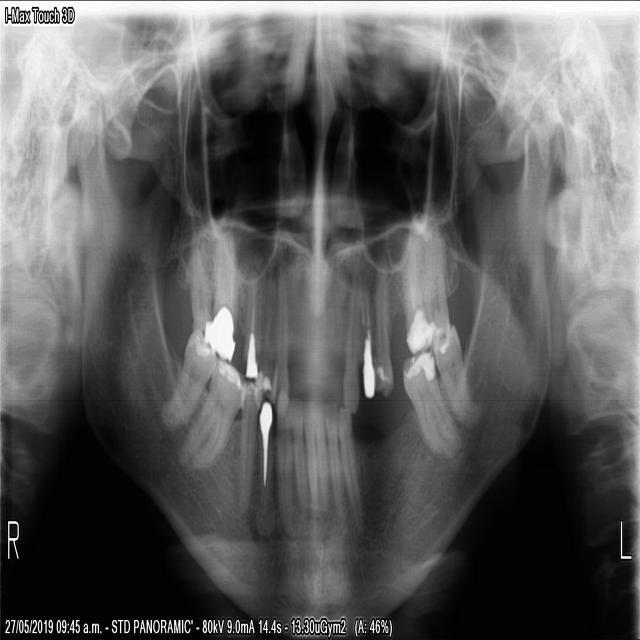LCD: (337, 403, 363, 531)
LID: (323, 393, 349, 520), (313, 395, 328, 519)
LMD: (400, 348, 466, 458), (431, 324, 488, 428)
LMU: (398, 209, 451, 354)
LPMU: (371, 268, 394, 397), (360, 286, 374, 399)
RCD: (276, 386, 291, 532)
RID: (288, 396, 309, 512), (302, 397, 319, 513)
RMD: (172, 356, 246, 471), (161, 329, 215, 429)
RPMD: (252, 369, 275, 538), (236, 377, 262, 509)
